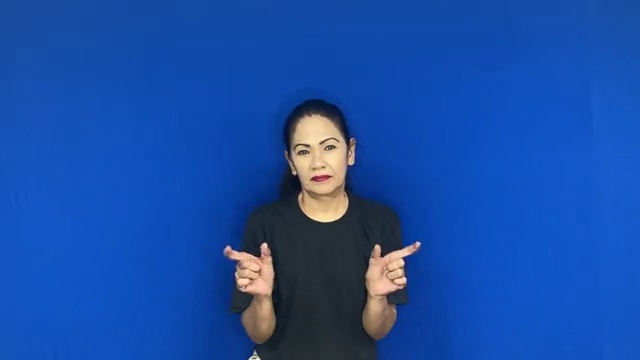crab: (218, 237, 429, 301)
